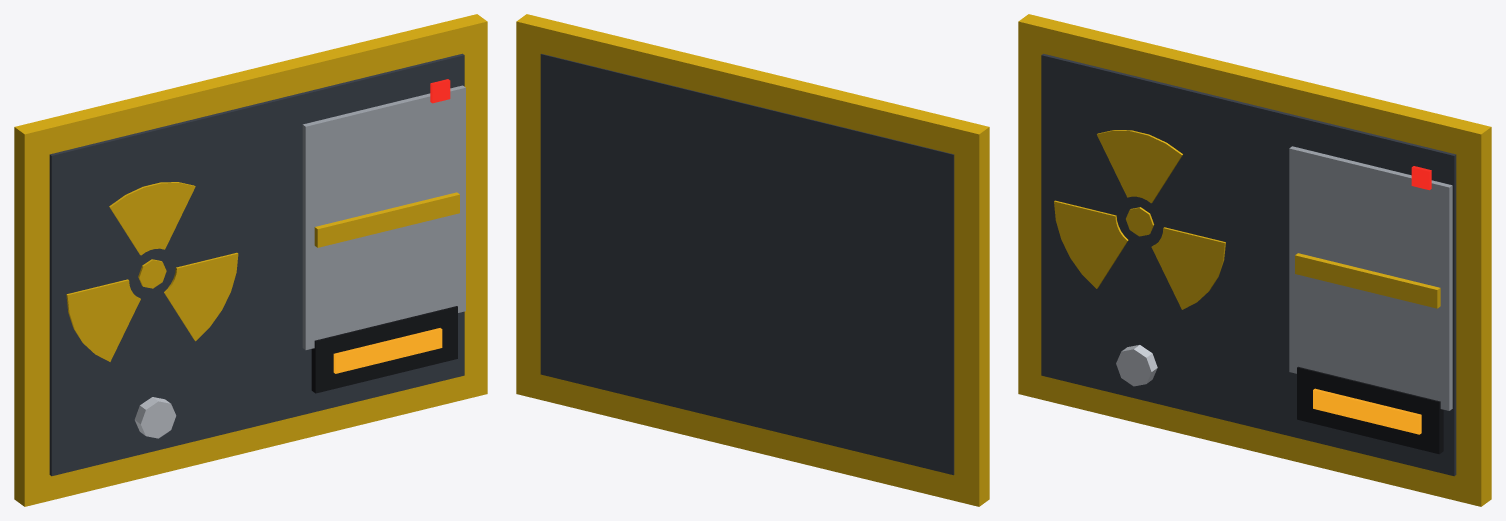
File: safety_radiation_shelter_panel.glb
3 renders of one model, left to right at view 1: azimuth 30°, elevation 25°; view 2: azimuth 150°, elevation 25°; view 3: azimuth 330°, elevation 25°, orthographic.
Parts seen in each view (by area): view 1: safety_radiation_shelter_panel; view 2: safety_radiation_shelter_panel; view 3: safety_radiation_shelter_panel.
Part boxes in pixels (x1,y1,x2,y2): safety_radiation_shelter_panel: (14, 14, 487, 506); safety_radiation_shelter_panel: (516, 14, 989, 506); safety_radiation_shelter_panel: (1018, 14, 1491, 506).
Size of the model in its own units: 1.3 by 1 by 0.098.
